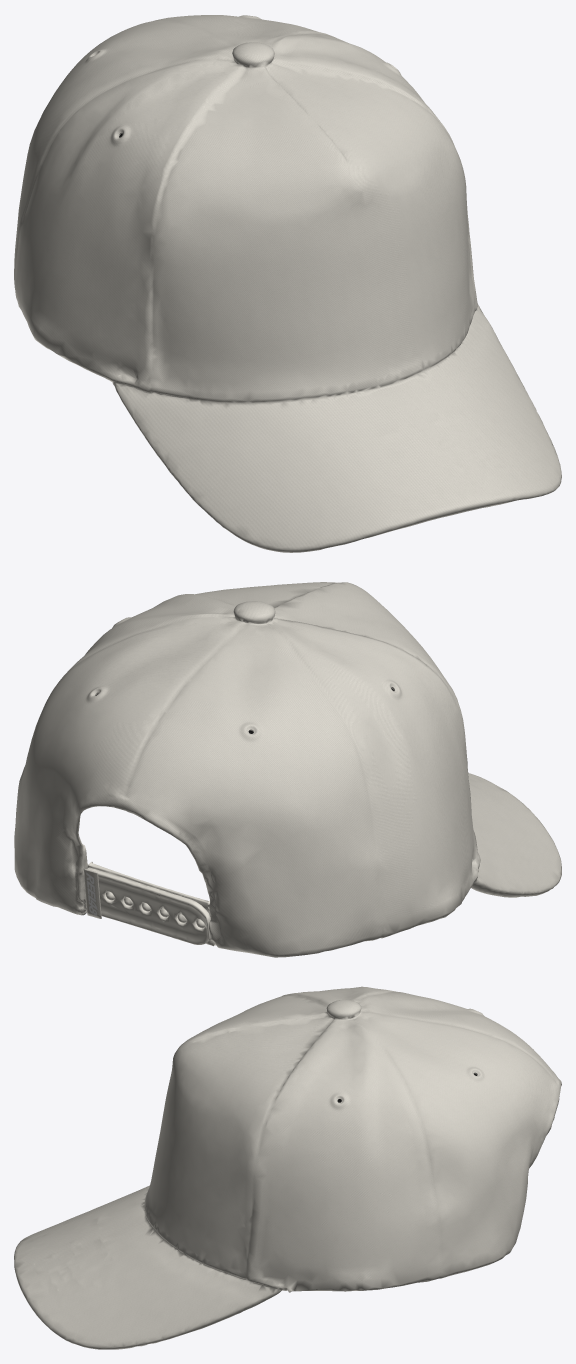
File: hat-no-6.glb
3 renders of one model, top to bottom at view 1: azimuth 30°, elevation 25°; view 2: azimuth 150°, elevation 25°; view 3: azimuth 270°, elevation 25°, orthographic. The views are drawn at different scales.
Parts seen in each view (by area): view 1: hat; view 2: hat; view 3: hat.
Boxes of the visible parts, x1,y1,x2,y2 form: hat: (14, 15, 561, 552); hat: (14, 582, 561, 957); hat: (14, 986, 561, 1349).
Bounding box in the file's own units: 0.1951 × 0.1584 × 0.2743.
21 materials, 19 textured.
